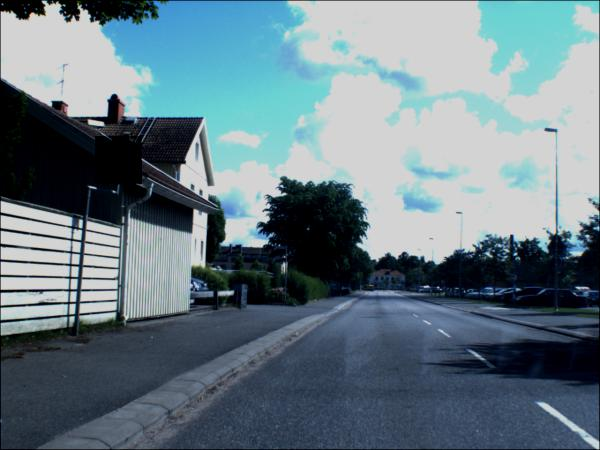50_SIGN: (95, 137, 143, 186)
PRIORITY_ROAD: (314, 268, 323, 276)
